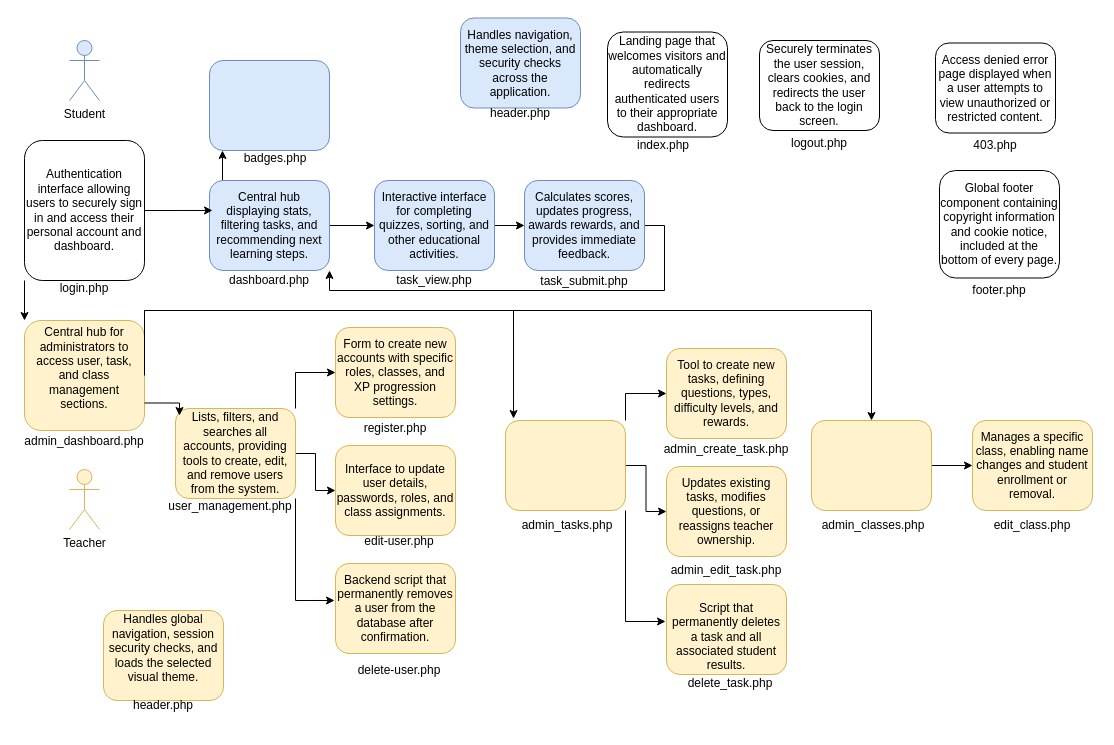
The diagram is 1114 pixels wide and 745 high, and some of its shapes have lost their labels. Each missing label, with the centre of its shape:
"Displays a list of all classes and allows the creation of new student groups." belongs at point 871,465.
"Overview of all educational tasks with sorting, filtering, and management tools." belongs at point 565,465.
"Visualizes unlocked achievements and tracks progress toward locked goals." belongs at point 269,105.
